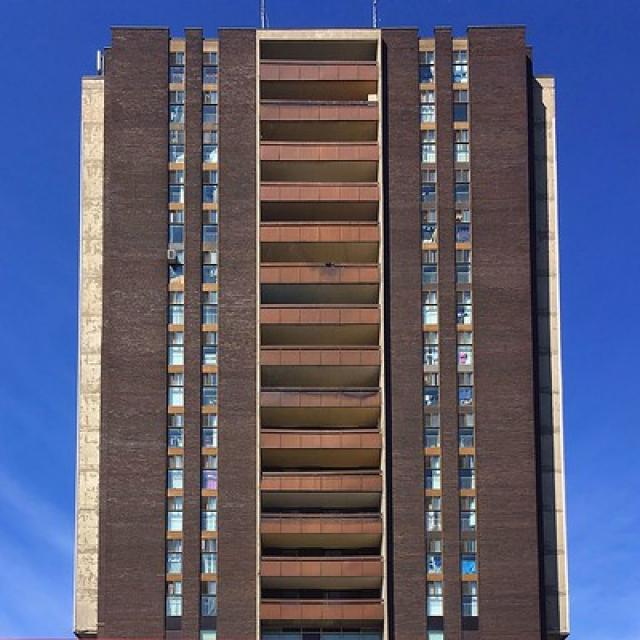Normal_building: (73, 16, 574, 640)
